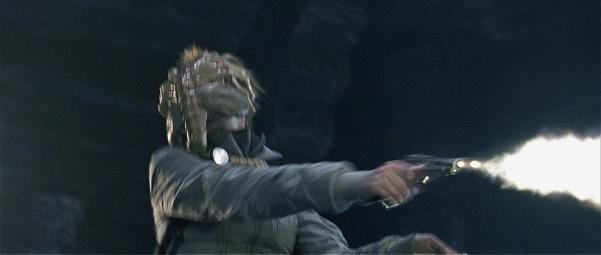Gun: (397, 154, 464, 187)
